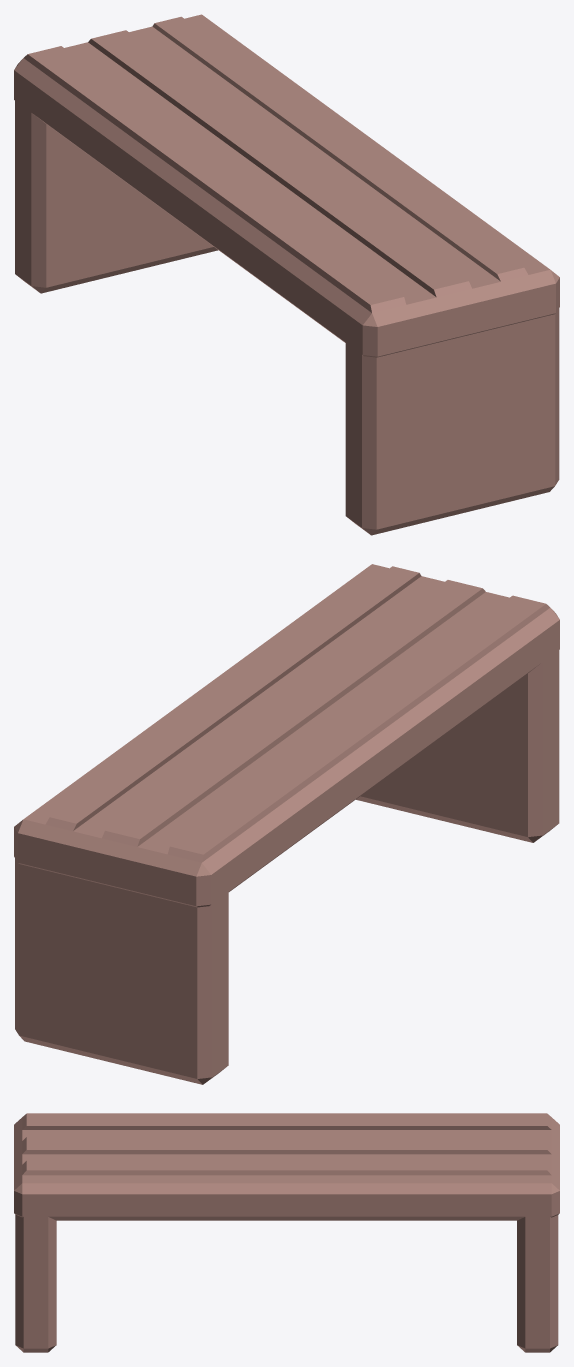
File: bench.fbx
The picture shows the model from 3 angles, top to bottom: view 1: azimuth 30°, elevation 25°; view 2: azimuth 150°, elevation 25°; view 3: azimuth 270°, elevation 25°; orthographic projection. The views are drawn at different scales.
Visible parts, largest first — view 1: pCube17; view 2: pCube17; view 3: pCube17.
Part boxes in pixels (x1,y1,x2,y2): pCube17: (14, 14, 559, 535); pCube17: (14, 564, 559, 1084); pCube17: (14, 1113, 559, 1352).
Bounding box in the file's own units: 1.49 × 1.65 × 4.7.
